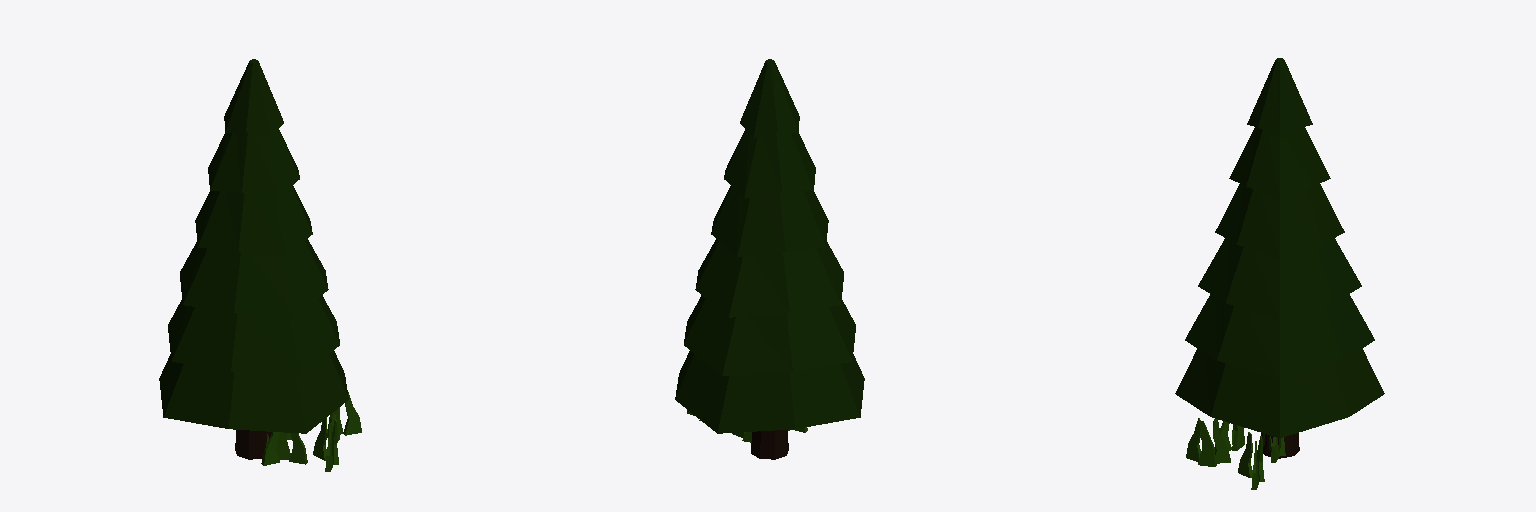
File: pineTree.obj
3 views of the same model, side by side, from view 1: azimuth 30°, elevation 25°; view 2: azimuth 150°, elevation 25°; view 3: azimuth 270°, elevation 25° (orthographic).
Visible parts, largest first — view 1: Cylinder.008, Cube.039, Cube.037, Cube.038; view 2: Cylinder.008; view 3: Cylinder.008, Cube.037, Cube.038.
Boxes of the visible parts, <box> form: Cylinder.008: <box>159,59,348,459</box>; Cube.039: <box>261,432,307,465</box>; Cube.037: <box>313,418,338,471</box>; Cube.038: <box>327,392,361,442</box>; Cylinder.008: <box>675,59,864,459</box>; Cylinder.008: <box>1175,58,1384,458</box>; Cube.037: <box>1186,418,1230,466</box>; Cube.038: <box>1238,432,1264,489</box>.
Size of the model in its own units: 1.38 by 2.77 by 1.35.